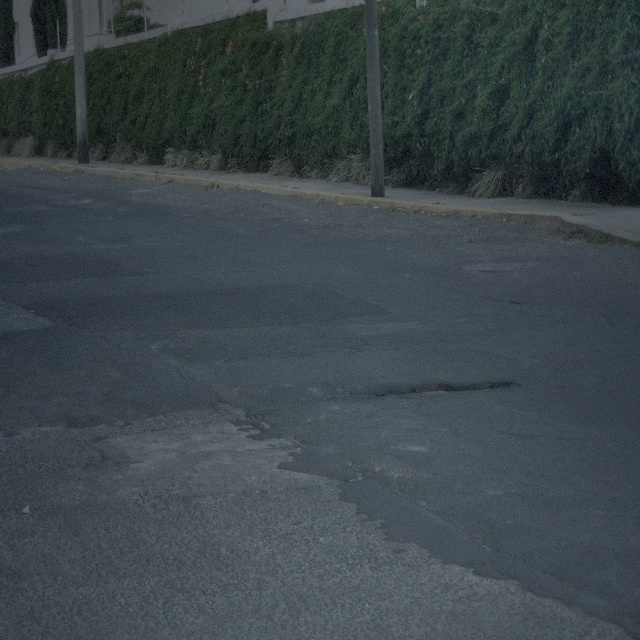pothole: (331, 373, 517, 411)
